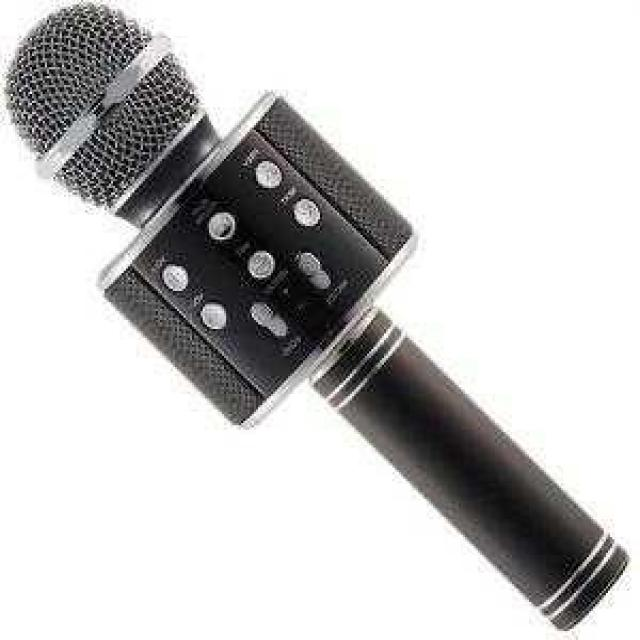microphone: (13, 6, 637, 616)
